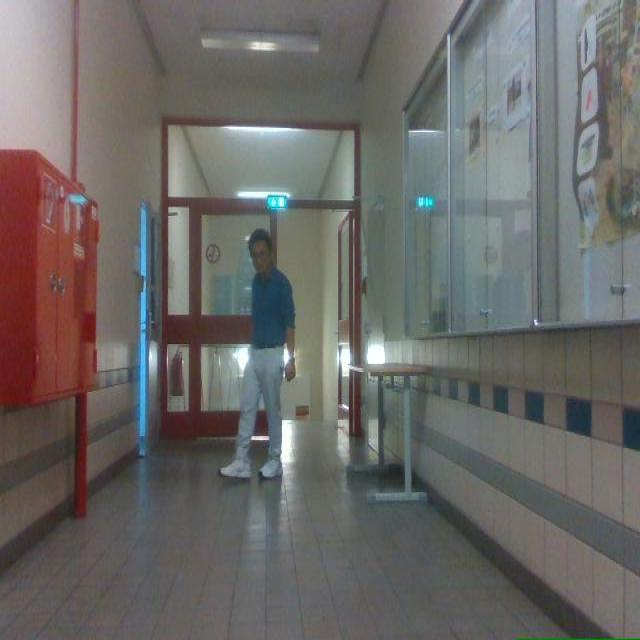humans: (219, 229, 295, 477)
objects: (352, 363, 430, 500)
